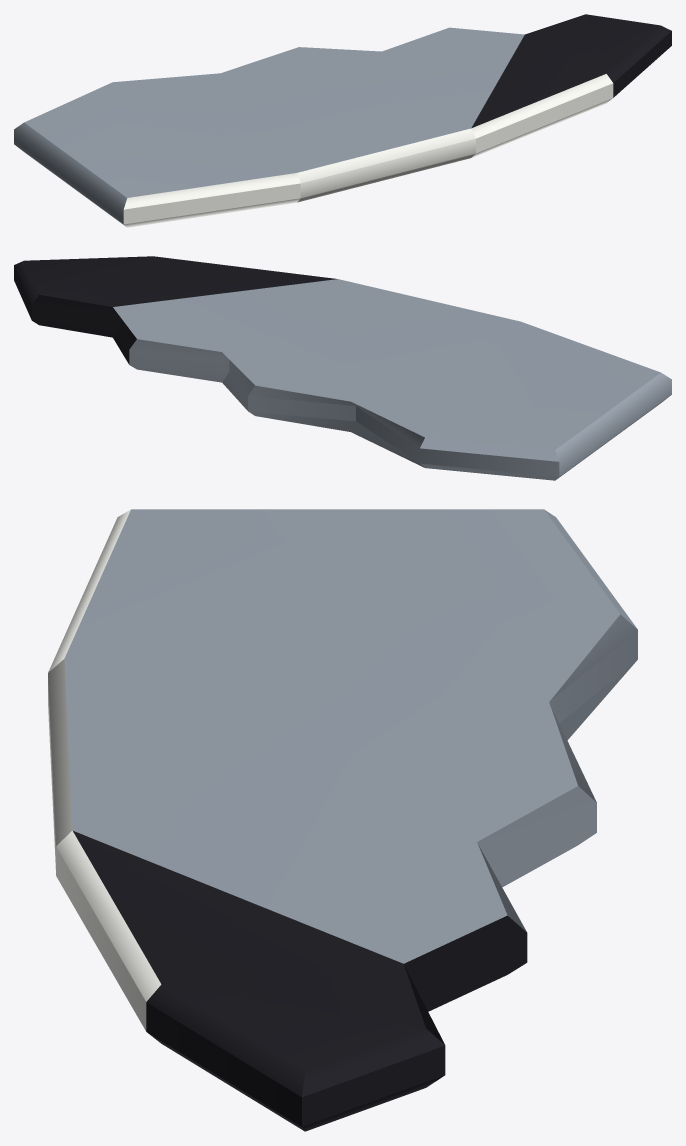
The model's file is AlaPajaroIzq.fbx.
The picture shows the model from 3 angles, top to bottom: view 1: azimuth 30°, elevation 25°; view 2: azimuth 150°, elevation 25°; view 3: azimuth 270°, elevation 25°; orthographic projection. The views are drawn at different scales.
Visible parts, largest first — view 1: AlaPajaroIzq; view 2: AlaPajaroIzq; view 3: AlaPajaroIzq.
Part boxes in pixels (x1,y1,x2,y2): AlaPajaroIzq: (14,14,671,227); AlaPajaroIzq: (14,256,671,480); AlaPajaroIzq: (48,509,637,1131).
Bounding box in the file's own units: 3.35 × 0.16 × 1.44.
1 material, 1 textured.
